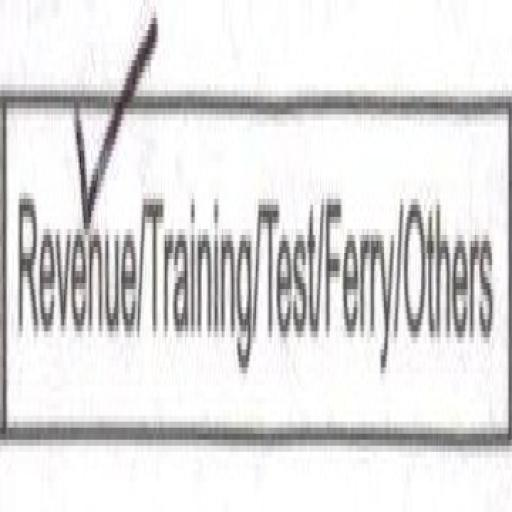check: (3, 42, 139, 411)
